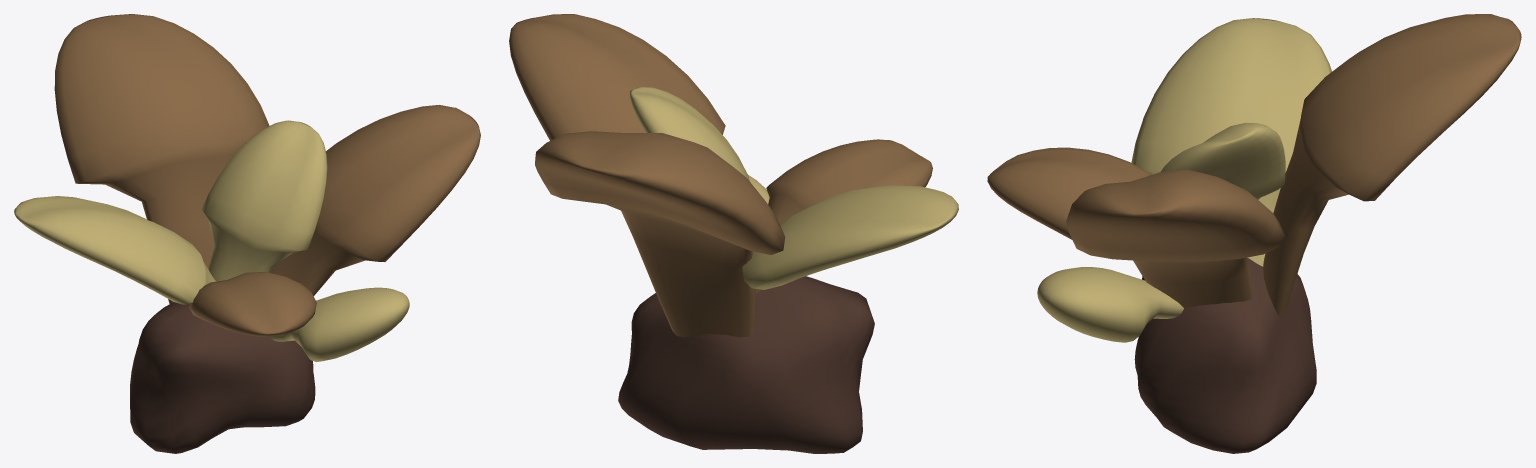
The model's file is sm_mushroom_03.fbx.
3 renders of one model, left to right at view 1: azimuth 30°, elevation 25°; view 2: azimuth 150°, elevation 25°; view 3: azimuth 270°, elevation 25°, orthographic. The views are drawn at different scales.
Visible parts, largest first — view 1: sm_mushroom_03; view 2: sm_mushroom_03; view 3: sm_mushroom_03.
Part boxes in pixels (x1,y1,x2,y2): sm_mushroom_03: (14, 14, 480, 453); sm_mushroom_03: (509, 14, 958, 453); sm_mushroom_03: (987, 14, 1521, 453).
Bounding box in the file's own units: 4.17 × 3.15 × 4.
